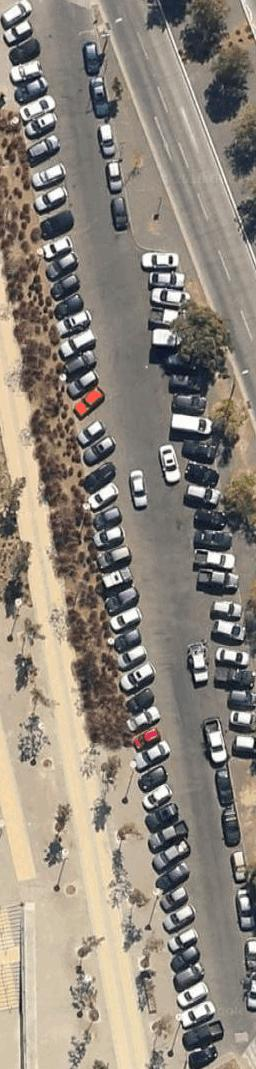parkingspot: (2, 0, 226, 1068), (137, 248, 256, 758), (77, 28, 135, 237), (211, 763, 256, 1013)
